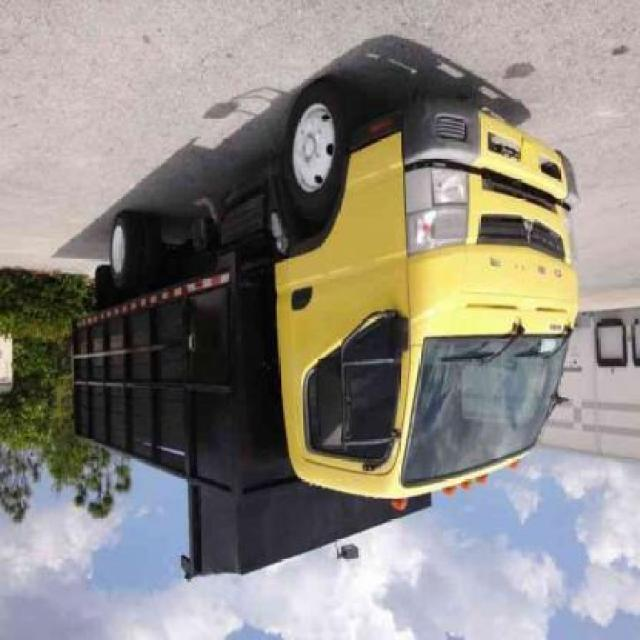truck: (73, 79, 580, 583)
